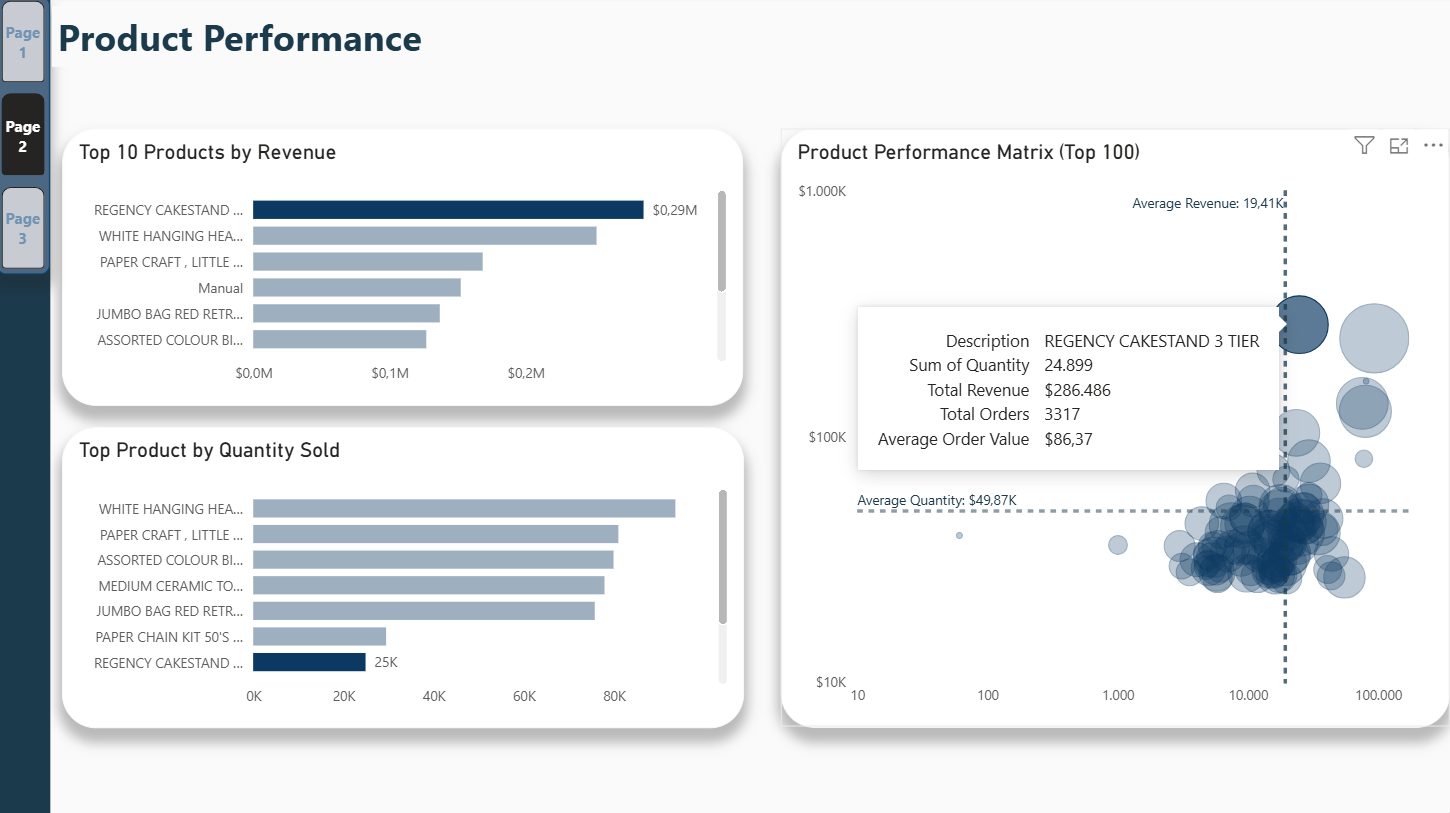

This screenshot's page, from the dashboard's own definition file:
{"tool":"powerbi","page":{"name":"Page 2","canvas":[1280,720],"ordinal":1},"visuals":[{"type":"clusteredBarChart","title":"Top 10 Products by Revenue","fields":{"Category":["online_retail_cleaned.Description"],"Y":["online_retail_cleaned.Total Revenue"]},"box":[57.2,116.6,599.3,244.1],"z":0},{"type":"shape","box":[-0.7,0,48,720],"z":2000},{"type":"pageNavigator","box":[0,0,46.6,244.8],"z":3000},{"type":"scatterChart","title":"Product Performance Matrix (Top 100)","fields":{"Category":["online_retail_cleaned.Description"],"X":["Sum(online_retail_cleaned.Quantity)"],"Y":["online_retail_cleaned.Total Revenue"],"Size":["online_retail_cleaned.Total Orders"]},"box":[689.5,116,588.8,527.5],"z":4000},{"type":"clusteredBarChart","title":"Top Product by Quantity","fields":{"Category":["online_retail_cleaned.Description"],"Y":["Sum(online_retail_cleaned.Quantity)"]},"box":[57.2,379.4,600.4,265],"z":5000},{"type":"textbox","box":[48.4,8.8,270.5,53.9],"z":5001}]}

Visuals, with their boxes on the page's 1280x720 design canvas (x1, y1, x2, y2). These are canvas units, not pixel positions in the 1450x813 screenshot, which may show the page scaled, cropped or inside an application window:
"Top 10 Products by Revenue" clusteredBarChart: bbox=[57, 117, 656, 361]
shape: bbox=[-1, 0, 47, 720]
pageNavigator: bbox=[0, 0, 47, 245]
"Product Performance Matrix (Top 100)" scatterChart: bbox=[690, 116, 1278, 644]
"Top Product by Quantity" clusteredBarChart: bbox=[57, 379, 658, 644]
textbox: bbox=[48, 9, 319, 63]
